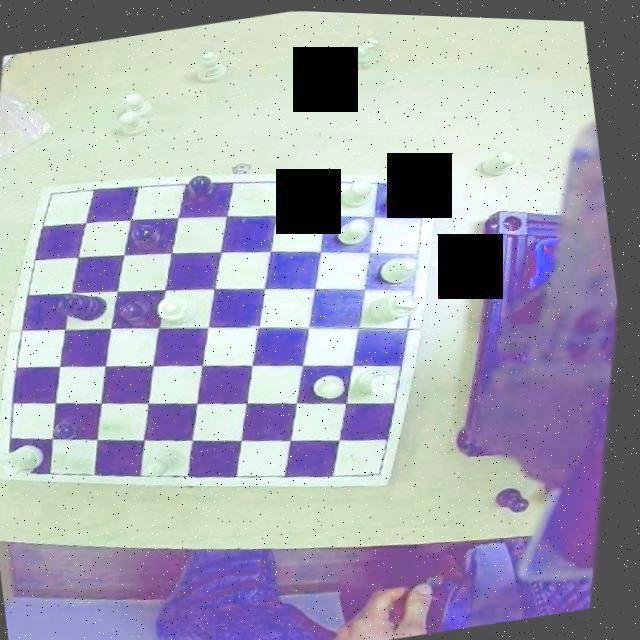chess-table-corners: (406, 170, 452, 213), (368, 442, 412, 483), (1, 444, 46, 484), (42, 181, 77, 213)
